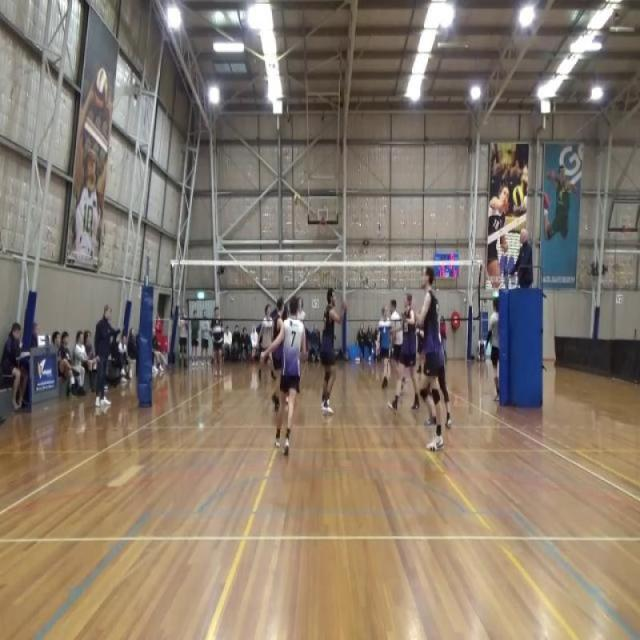volleyball: (94, 68, 108, 111), (512, 184, 525, 208), (293, 193, 301, 208)
